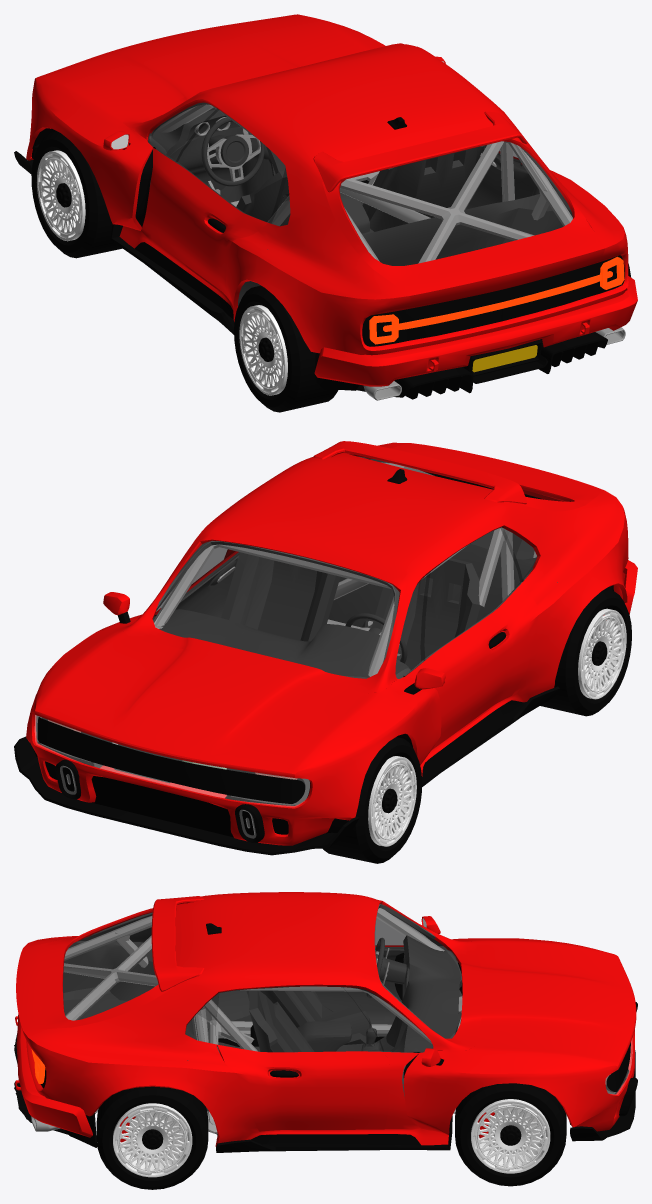
File: hatchback.glb
The picture shows the model from 3 angles, top to bottom: view 1: azimuth 30°, elevation 25°; view 2: azimuth 150°, elevation 25°; view 3: azimuth 270°, elevation 25°; orthographic projection. The views are drawn at different scales.
Parts seen in each view (by area): view 1: Govde, Bagaj, KapiSol, TekerArkaSol, TekerOnSol, KapiSag, Direksiyon; view 2: Govde, KapiSol, Bagaj, TekerArkaSol, TekerOnSol, KapiSag; view 3: Govde, KapiSag, Bagaj, TekerArkaSag, TekerOnSag, KapiSol, FrenOnSag.
Part boxes in pixels (x1,y1,x2,y2): Govde: (14, 14, 637, 400); Bagaj: (320, 123, 604, 308); KapiSol: (155, 101, 287, 301); TekerArkaSol: (234, 285, 338, 412); TekerOnSol: (31, 131, 122, 258); KapiSag: (453, 145, 530, 209); Direksiyon: (201, 117, 264, 186); Govde: (14, 442, 637, 855); KapiSol: (405, 526, 538, 746); Bagaj: (327, 441, 604, 511); TekerArkaSol: (540, 589, 631, 716); TekerOnSol: (322, 737, 422, 863); KapiSag: (175, 547, 239, 617); Govde: (14, 892, 637, 1162); KapiSag: (213, 986, 393, 1131); Bagaj: (16, 898, 181, 1032); TekerArkaSag: (96, 1086, 208, 1189); TekerOnSag: (455, 1083, 566, 1186); KapiSol: (260, 918, 393, 1020); FrenOnSag: (484, 1103, 546, 1154).
Bounding box in the file's own units: 2.19 × 1.38 × 3.97.
